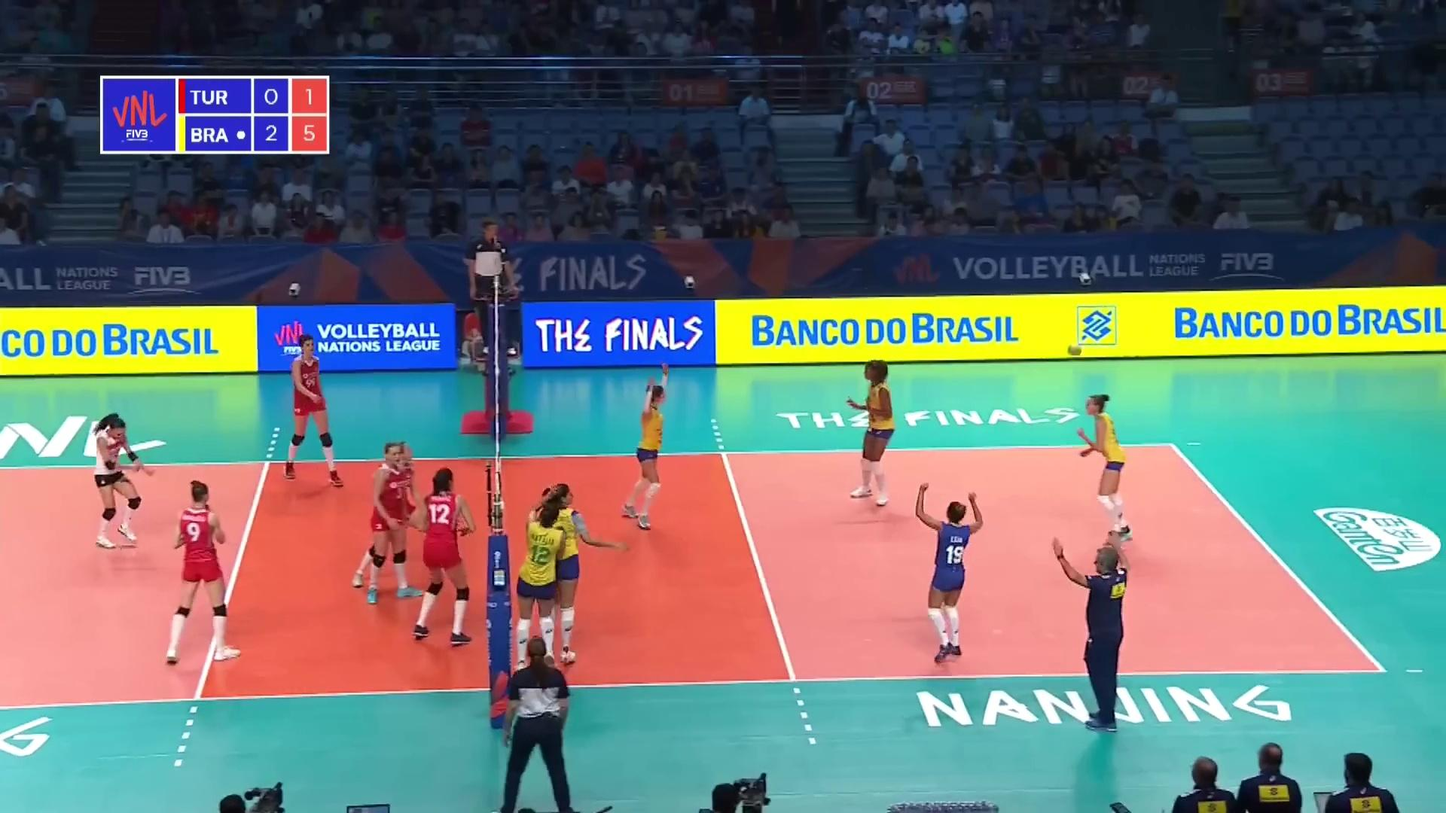player: (538, 484, 618, 668), (161, 480, 240, 662), (412, 467, 478, 647), (916, 494, 981, 665), (511, 497, 564, 681), (354, 437, 415, 596), (1075, 390, 1133, 541), (618, 368, 671, 532), (285, 340, 342, 489), (92, 416, 152, 552), (845, 365, 900, 513), (366, 445, 414, 605)
refree: (502, 642, 574, 813), (469, 225, 522, 358)
